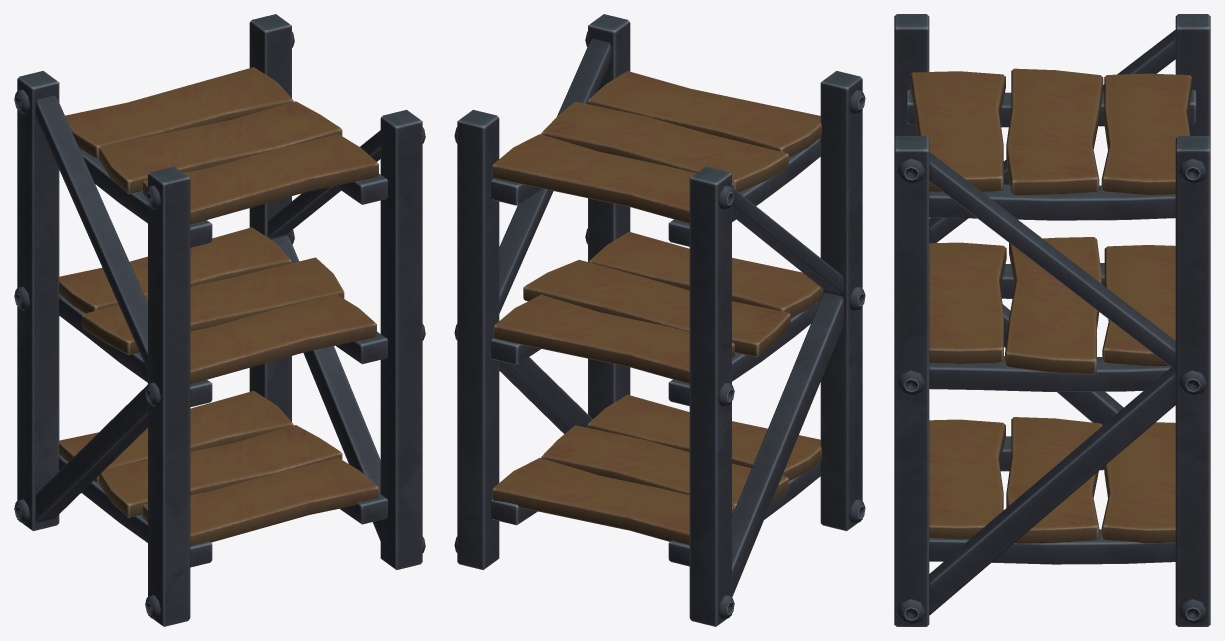
File: SM_Shelf_2.FBX
3 views of the same model, side by side, from view 1: azimuth 30°, elevation 25°; view 2: azimuth 150°, elevation 25°; view 3: azimuth 270°, elevation 25° (orthographic). The views are drawn at different scales.
Visible parts, largest first — view 1: Plank 1m_007; view 2: Plank 1m_007; view 3: Plank 1m_007.
Part boxes in pixels (x1,y1,x2,y2): Plank 1m_007: (14, 14, 425, 626); Plank 1m_007: (454, 14, 865, 626); Plank 1m_007: (894, 14, 1210, 626).
Size of the model in its own units: 75.76 by 118 by 70.87.
